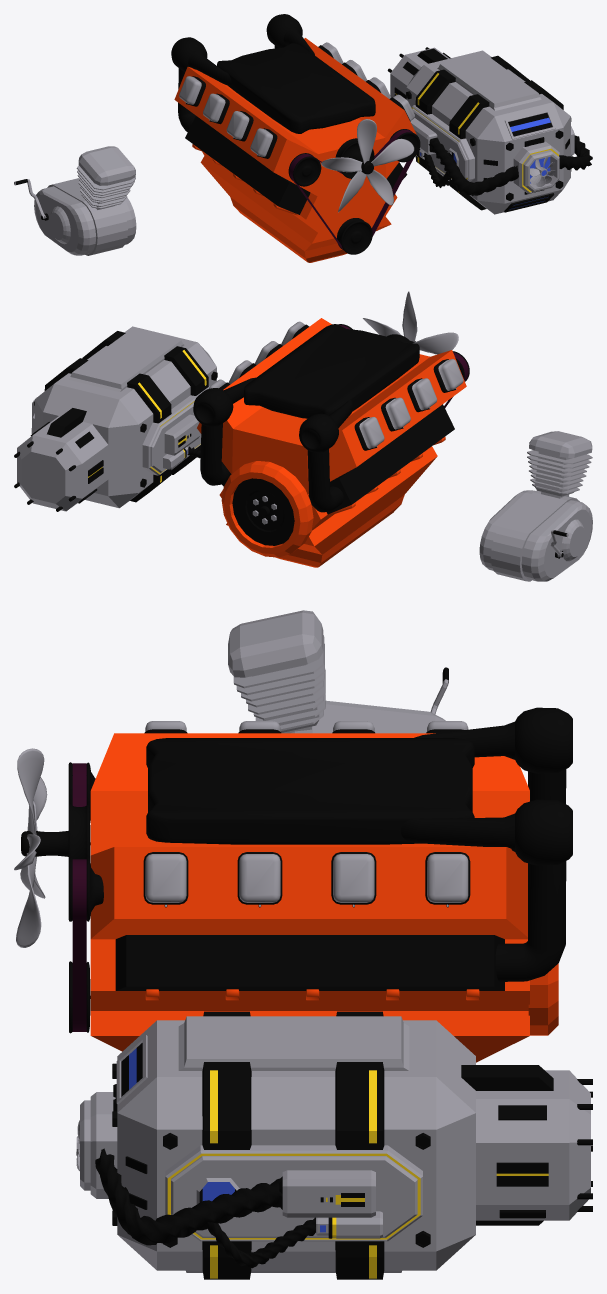
Rendered from Engines (Demo).fbx.
3 views of the same model, one above another, from view 1: azimuth 30°, elevation 25°; view 2: azimuth 150°, elevation 25°; view 3: azimuth 270°, elevation 25° (orthographic). The views are drawn at different scales.
Parts seen in each view (by area): view 1: Petrol_engine, Electric_motor, Motorcycle_engine, Fan_4, Pulley_2, Belt_2, Roller_2, Fan_1, Roller_1; view 2: Petrol_engine, Electric_motor, Motorcycle_engine, Fan_4; view 3: Petrol_engine, Electric_motor, Motorcycle_engine, Fan_4, Belt_2, Roller_1.
Boxes of the visible parts, left/top/right/bottom form: Petrol_engine: left=171, top=14, right=416, bottom=262; Electric_motor: left=387, top=47, right=592, bottom=214; Motorcycle_engine: left=34, top=146, right=136, bottom=255; Fan_4: left=321, top=119, right=414, bottom=212; Pulley_2: left=337, top=218, right=372, bottom=254; Belt_2: left=289, top=129, right=413, bottom=248; Roller_2: left=288, top=153, right=321, bottom=186; Fan_1: left=530, top=157, right=555, bottom=186; Roller_1: left=390, top=129, right=420, bottom=162; Petrol_engine: left=193, top=318, right=466, bottom=567; Electric_motor: left=14, top=326, right=217, bottom=511; Motorcycle_engine: left=479, top=431, right=592, bottom=581; Fan_4: left=363, top=291, right=458, bottom=354; Petrol_engine: left=90, top=707, right=572, bottom=1062; Electric_motor: left=80, top=1011, right=592, bottom=1279; Motorcycle_engine: left=228, top=610, right=445, bottom=733; Fan_4: left=14, top=748, right=90, bottom=947; Belt_2: left=72, top=763, right=86, bottom=1031; Roller_1: left=68, top=858, right=103, bottom=921.
Size of the model in its own units: 4.91 by 1.6 by 2.47.
